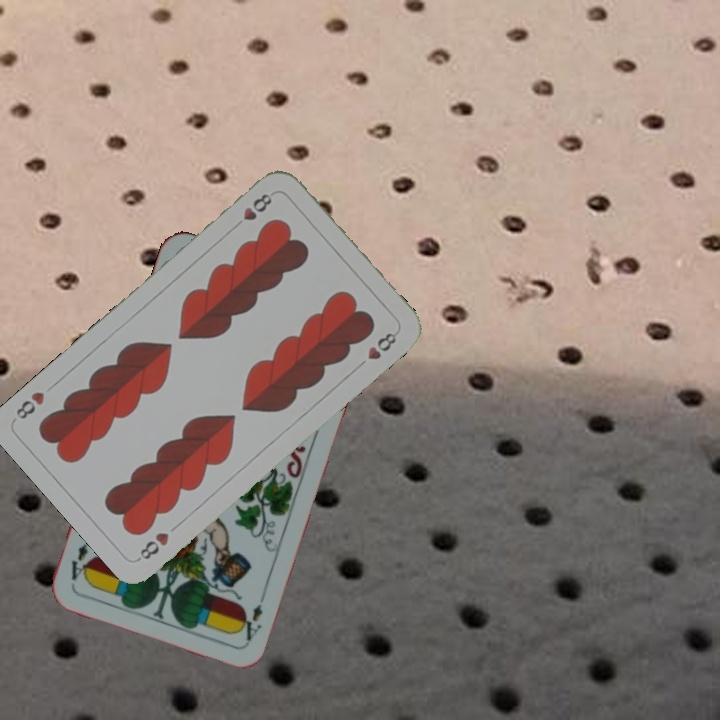EA: (235, 587, 269, 644)
H8: (229, 189, 275, 232), (134, 528, 172, 563)
